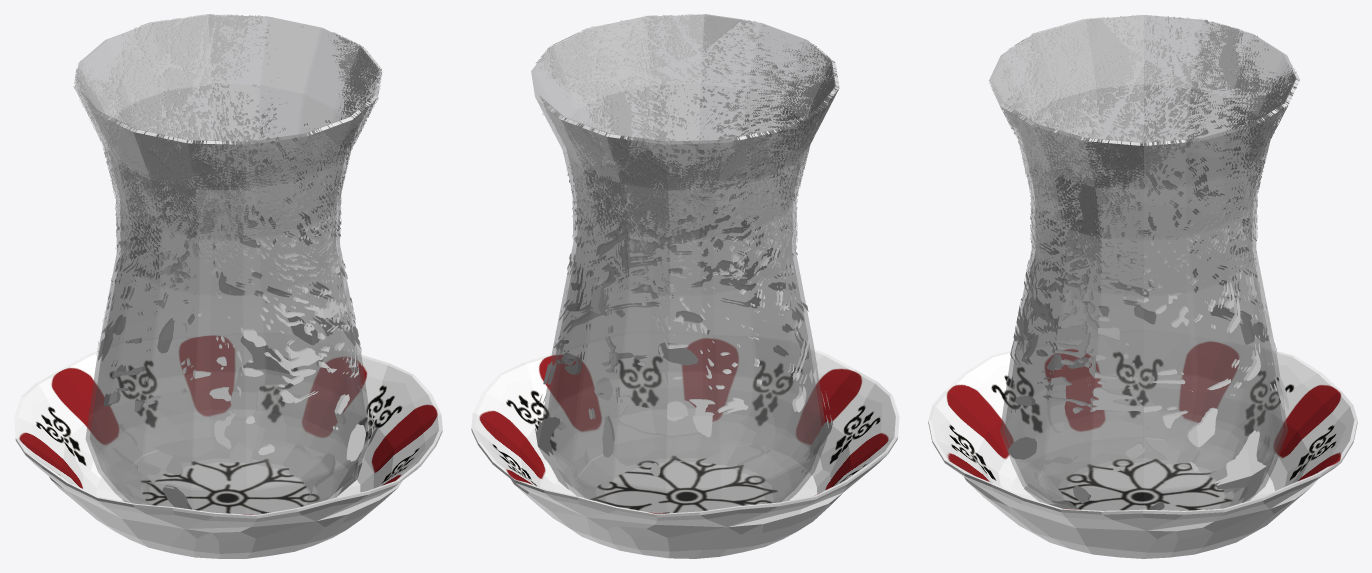
Rendered from TeaGlass(empty).fbx.
3 views of the same model, side by side, from view 1: azimuth 30°, elevation 25°; view 2: azimuth 150°, elevation 25°; view 3: azimuth 270°, elevation 25° (orthographic).
Parts seen in each view (by area): view 1: TeaGlass, TeaGlassCoater, Dirty_effect; view 2: TeaGlass, TeaGlassCoater, Dirty_effect; view 3: TeaGlass, TeaGlassCoater, Dirty_effect.
Part boxes in pixels (<box>): TeaGlass: <box>75,15,381,514</box>; TeaGlassCoater: <box>14,333,442,558</box>; Dirty_effect: <box>73,14,383,509</box>; TeaGlass: <box>531,15,837,513</box>; TeaGlassCoater: <box>471,332,899,558</box>; Dirty_effect: <box>535,14,839,513</box>; TeaGlass: <box>989,15,1298,510</box>; TeaGlassCoater: <box>928,329,1357,558</box>; Dirty_effect: <box>989,14,1299,510</box>.
Bounding box in the file's own units: 51.36 × 56.75 × 51.36.
3 materials, 1 textured.
